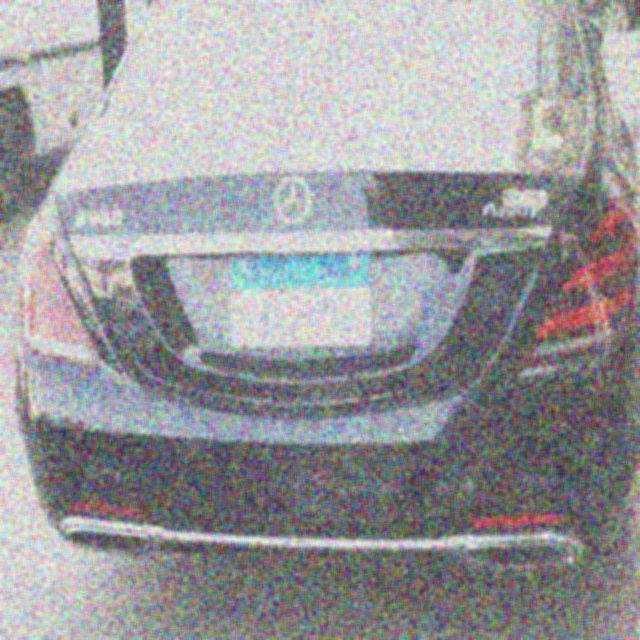License Plate: (228, 253, 372, 352)
